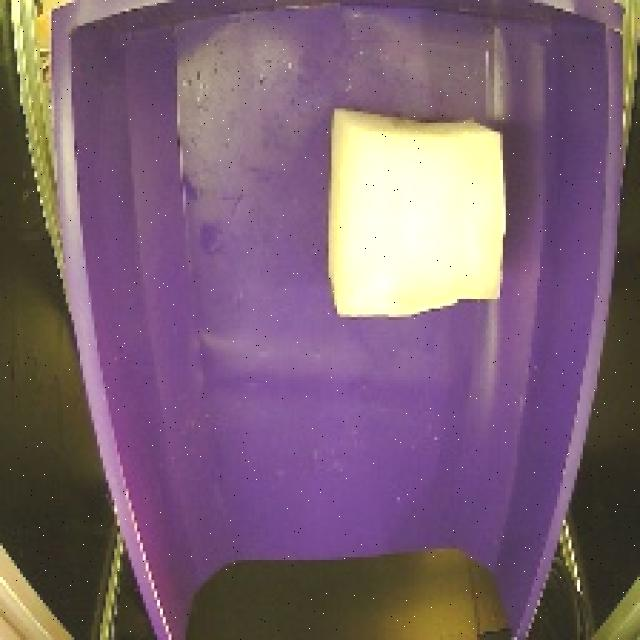white_radish: (307, 92, 520, 332)
